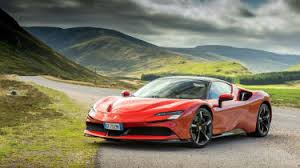car: (85, 73, 272, 146)
